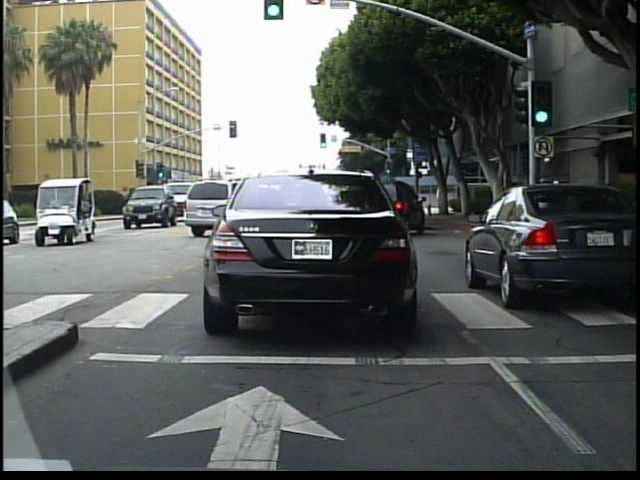person: (519, 174, 540, 229), (435, 185, 449, 214)
